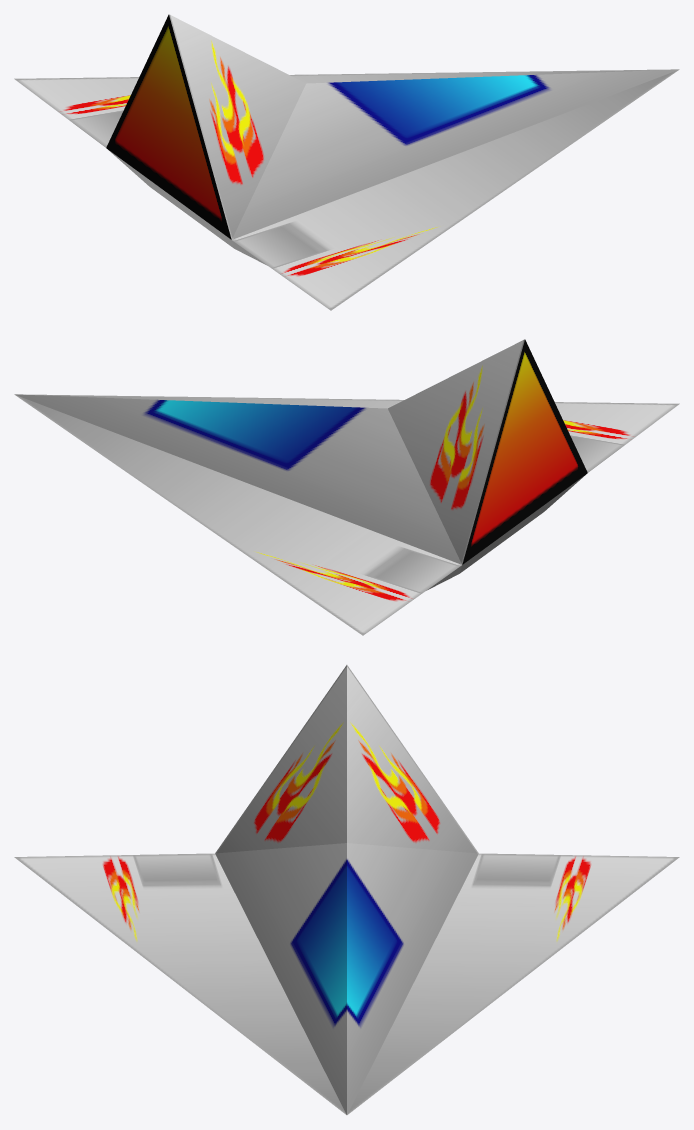
The model's file is ship.obj.
3 renders of one model, top to bottom at view 1: azimuth 30°, elevation 25°; view 2: azimuth 150°, elevation 25°; view 3: azimuth 270°, elevation 25°, orthographic. The views are drawn at different scales.
Visible parts, largest first — view 1: Cube_Cube.001; view 2: Cube_Cube.001; view 3: Cube_Cube.001.
Boxes of the visible parts, left/top/right/bottom form: Cube_Cube.001: left=14, top=14, right=679, bottom=310; Cube_Cube.001: left=14, top=339, right=679, bottom=635; Cube_Cube.001: left=14, top=665, right=679, bottom=1114.
Bounding box in the file's own units: 2 × 0.7827 × 2.15.
1 material, 1 textured.
